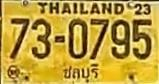0: (68, 18, 87, 58)
3: (31, 18, 50, 58)
5: (132, 18, 151, 59)
7: (10, 17, 29, 58), (89, 18, 108, 59)
9: (111, 18, 129, 58)
CBI: (61, 63, 100, 84)
